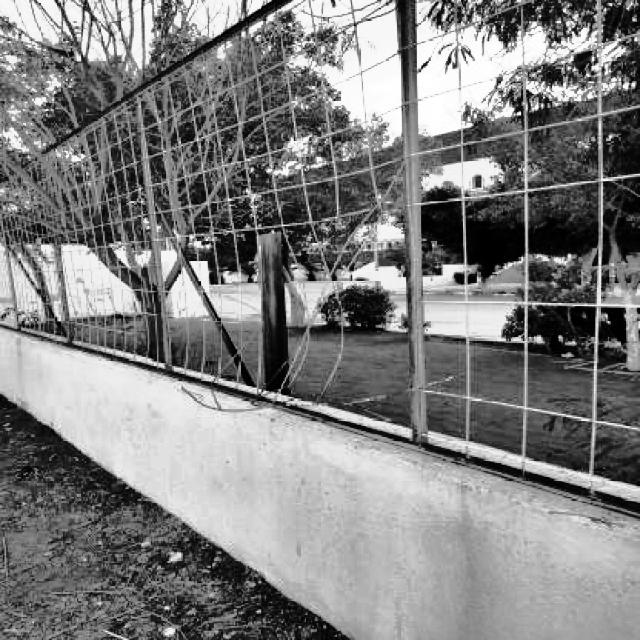anomaly-fence: (83, 194, 443, 409)
